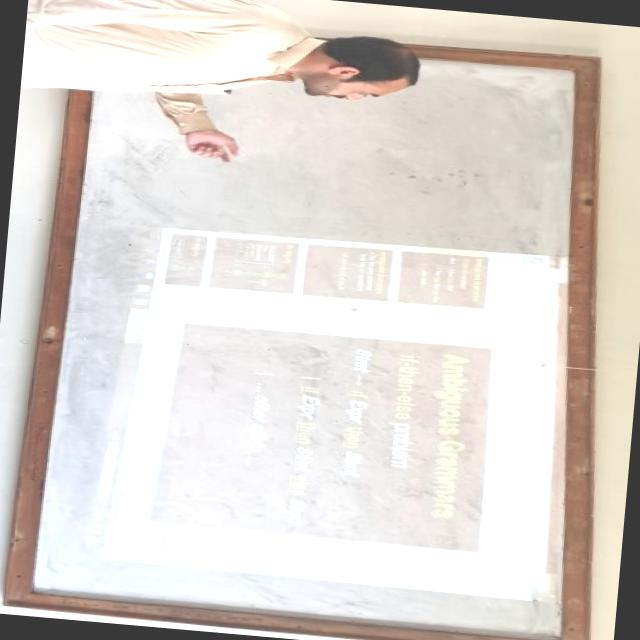Instructor: (19, 0, 440, 124)
Slide: (76, 222, 583, 603)
White-board: (22, 26, 586, 640)
